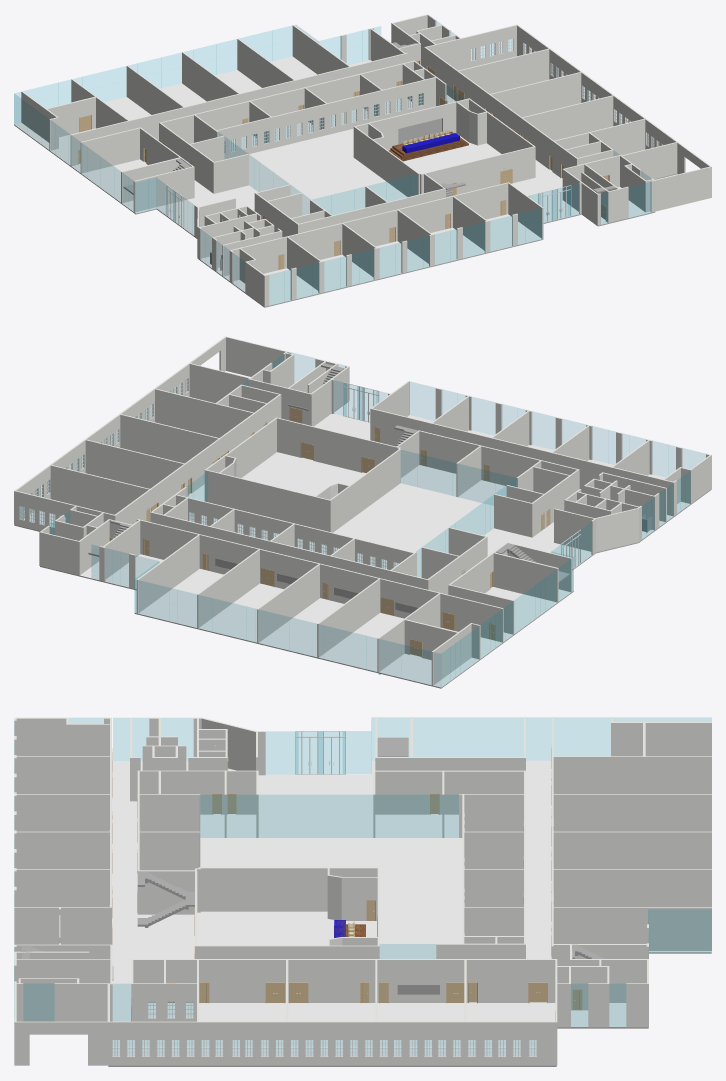
Rendered from 1L墙体.gltf.
3 renders of one model, top to bottom at view 1: azimuth 30°, elevation 25°; view 2: azimuth 150°, elevation 25°; view 3: azimuth 270°, elevation 25°, orthographic. The views are drawn at different scales.
Parts seen in each view (by area): view 1: 常规 140 - 20+120 [828984], 常规 - 200mm [791787], 常规 - 200mm [367109], 常规 - 200mm [432395], 常规 - 200mm [435478], 常规 - 200mm [787339], 常规 - 200mm [361772], 常规 - 200mm [360479], 常规 - 200mm [360535], 常规 - 200mm [360590], 常规 - 200mm [425923], 常规 - 200mm [362324] (+45 smaller); view 2: 常规 140 - 20+120 [828984], 常规 - 200mm [432395], 常规 - 200mm [362213], 常规 - 200mm [435478], 常规 - 200mm [791787], 常规 - 200mm [787339], 常规 - 200mm [361772], 常规 - 200mm [361418], 常规 - 200mm [367109], 常规 - 200mm [360590], 常规 - 200mm [360535], 常规 - 200mm [360479] (+46 smaller); view 3: 常规 140 - 20+120 [828984], 常规 - 200mm [787339], 常规 - 200mm [435478], 常规 - 200mm [356932], 常规 - 200mm [362324], 常规 - 200mm [356723], 常规 - 200mm [356034], 常规 - 200mm [356652], 常规 - 200mm [356786], 常规 - 200mm [366916], 常规 - 200mm [354483], 常规 - 200mm [353675] (+38 smaller).
Boxes of the visible parts, box(x1,y1,x2,y2) form: 常规 140 - 20+120 [828984]: box(14, 56, 677, 307); 常规 - 200mm [791787]: box(217, 77, 435, 159); 常规 - 200mm [367109]: box(160, 60, 414, 143); 常规 - 200mm [432395]: box(70, 53, 407, 166); 常规 - 200mm [435478]: box(425, 47, 578, 177); 常规 - 200mm [787339]: box(516, 24, 711, 197); 常规 - 200mm [361772]: box(425, 146, 535, 194); 常规 - 200mm [360479]: box(522, 95, 613, 140); 常规 - 200mm [360535]: box(490, 72, 581, 117); 常规 - 200mm [360590]: box(458, 48, 549, 93); 常规 - 200mm [425923]: box(398, 182, 508, 232); 常规 - 200mm [362324]: box(354, 127, 418, 196); 常规 140 - 20+120 [828984]: box(14, 401, 711, 688); 常规 - 200mm [432395]: box(136, 519, 503, 642); 常规 - 200mm [362213]: box(206, 470, 331, 532); 常规 - 200mm [435478]: box(115, 394, 281, 524); 常规 - 200mm [791787]: box(176, 494, 413, 569); 常规 - 200mm [787339]: box(14, 336, 226, 524); 常规 - 200mm [361772]: box(276, 417, 395, 472); 常规 - 200mm [361418]: box(418, 430, 579, 489); 常规 - 200mm [367109]: box(150, 512, 427, 589); 常规 - 200mm [360590]: box(50, 465, 149, 514); 常规 - 200mm [360535]: box(85, 439, 184, 488); 常规 - 200mm [360479]: box(120, 414, 218, 463); 常规 140 - 20+120 [828984]: box(108, 760, 711, 1066); 常规 - 200mm [787339]: box(14, 1021, 557, 1065); 常规 - 200mm [435478]: box(131, 959, 555, 1002); 常规 - 200mm [356932]: box(553, 907, 711, 950); 常规 - 200mm [362324]: box(200, 867, 377, 911); 常规 - 200mm [356723]: box(553, 831, 711, 869); 常规 - 200mm [356034]: box(553, 756, 711, 793); 常规 - 200mm [356652]: box(553, 794, 711, 831); 常规 - 200mm [356786]: box(553, 869, 711, 906); 常规 - 200mm [366916]: box(375, 770, 525, 814); 常规 - 200mm [354483]: box(16, 831, 111, 869); 常规 - 200mm [353675]: box(14, 907, 111, 944).
Bounding box in the file's own units: 68.08 × 4.95 × 65.76.
Materials: 22 (1 with a texture image).
